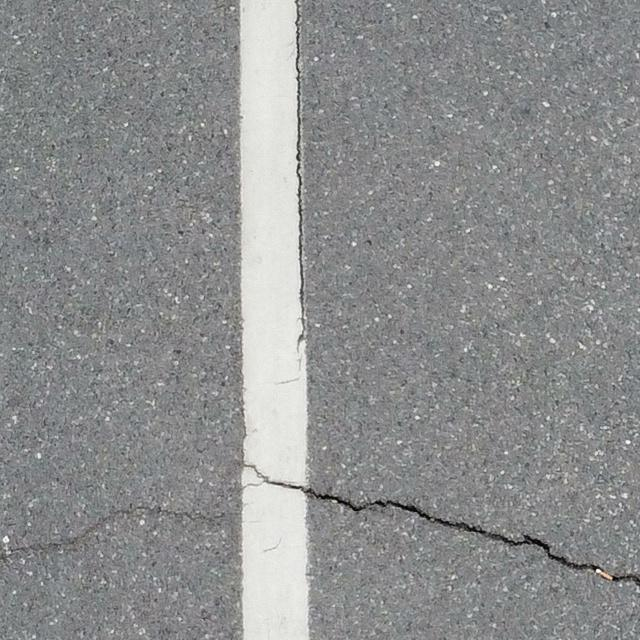LongitudinalCrack: (288, 1, 307, 375)
TransverseCrack: (236, 459, 640, 584), (2, 503, 211, 559)
